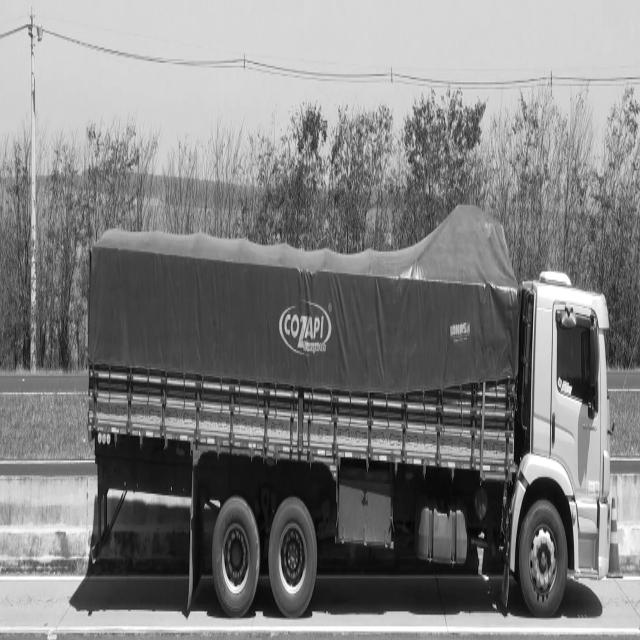Pole: (28, 6, 42, 368)
Truck: (89, 205, 610, 619)
